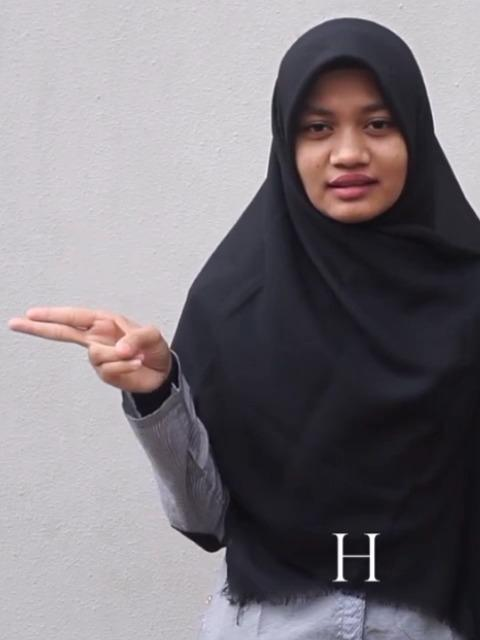H: (7, 299, 177, 393)
